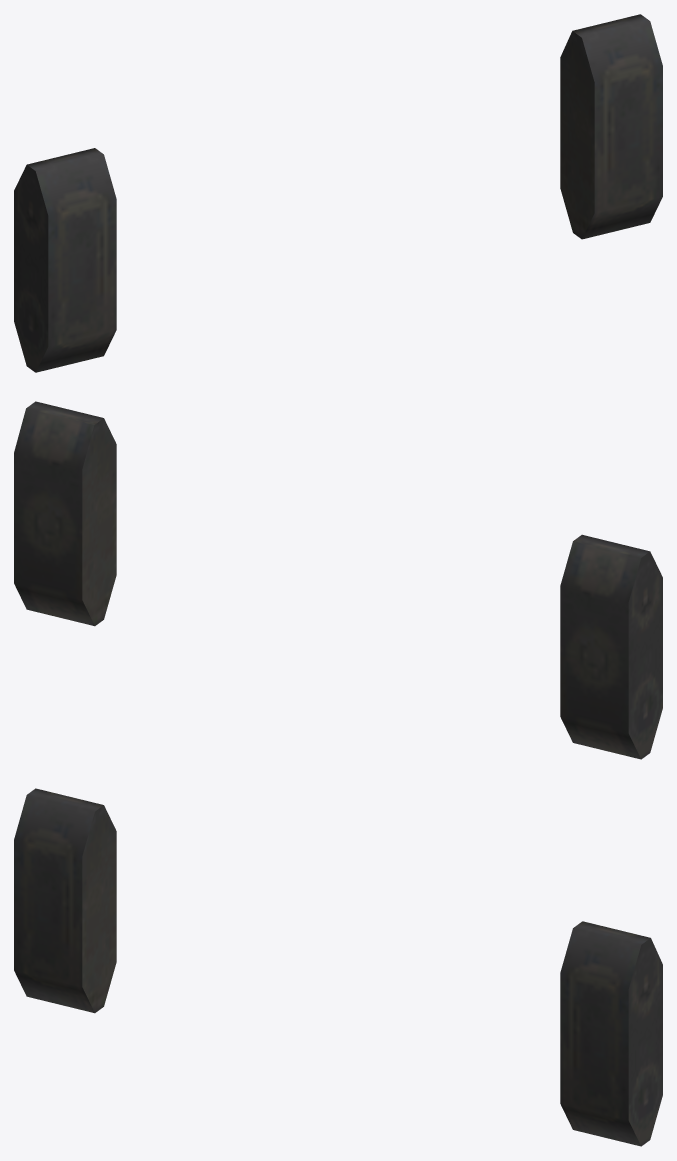
The picture shows the model from 3 angles, top to bottom: view 1: azimuth 30°, elevation 25°; view 2: azimuth 150°, elevation 25°; view 3: azimuth 330°, elevation 25°; orthographic projection.
Parts seen in each view (by area): view 1: set_0_group_0; view 2: set_0_group_0; view 3: set_0_group_0.
Boxes of the visible parts, x1,y1,x2,y2 form: set_0_group_0: (14, 14, 662, 372); set_0_group_0: (14, 401, 662, 759); set_0_group_0: (14, 788, 662, 1146).
Bounding box in the file's own units: 0.3548 × 0.1112 × 0.0344.
1 material, 1 textured.
